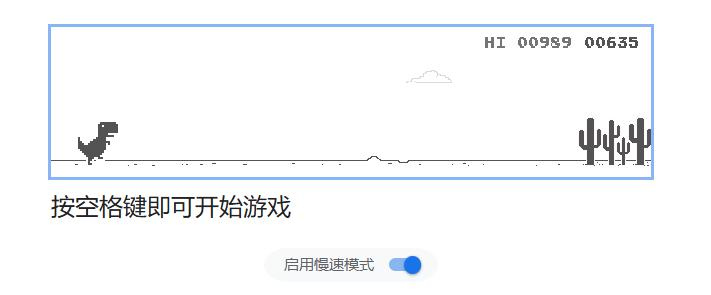cactus: (577, 116, 651, 166)
dino: (75, 118, 119, 164)
